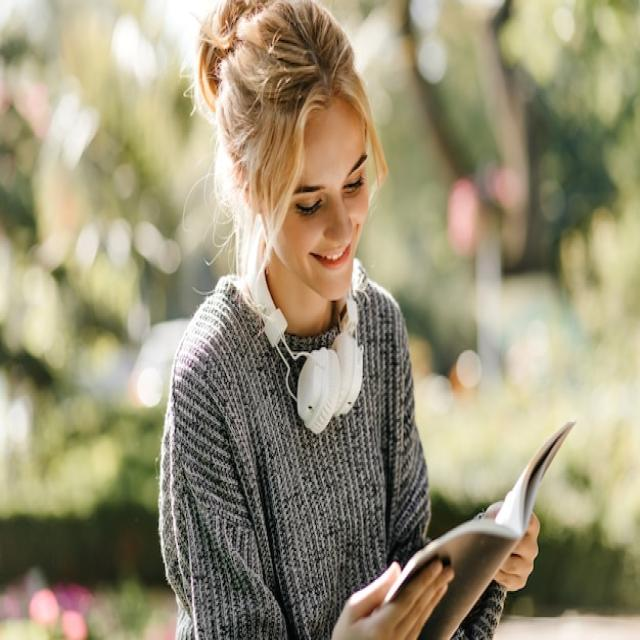Headphone: (252, 254, 364, 436)
